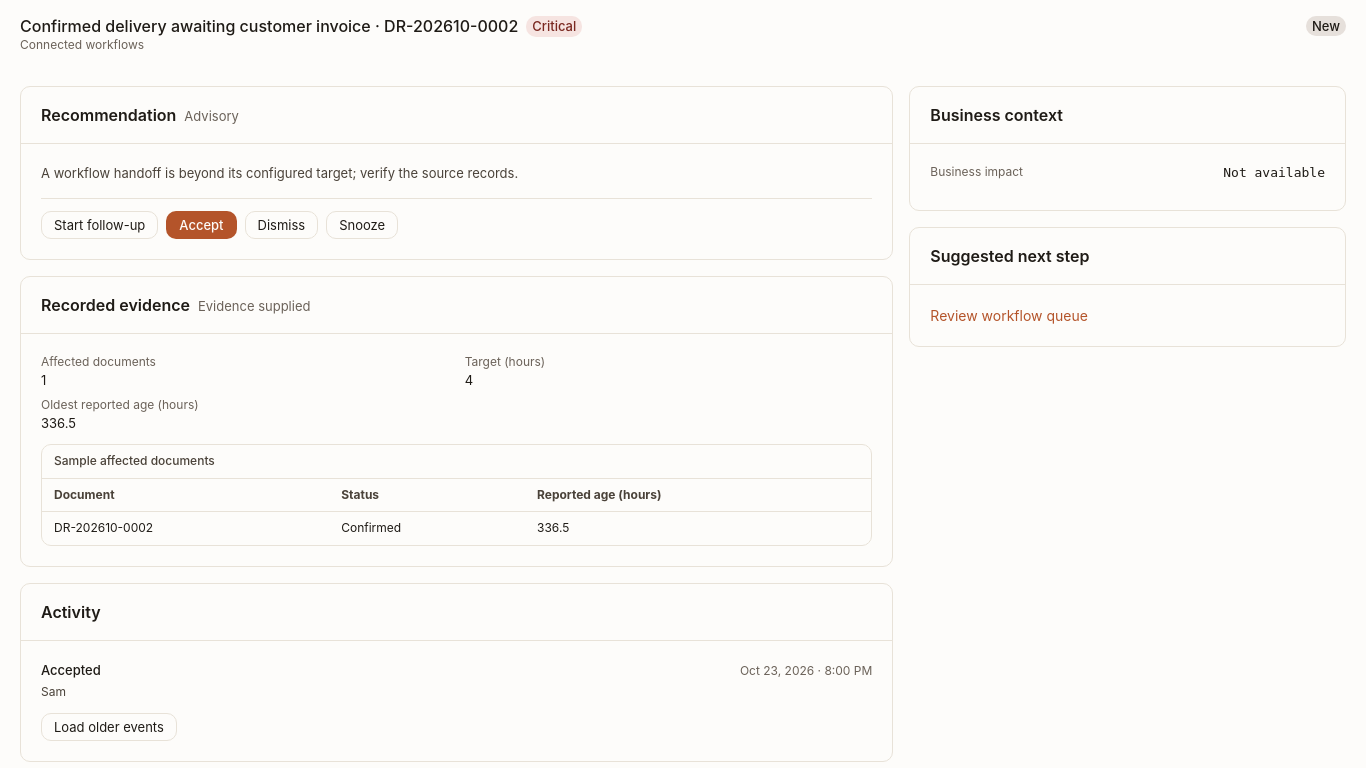
Test: RecommendationDetails › loads older activity with cursor and shows curated event details
expect the text "Accepted" is shown: met, box [41,661,101,679]
expect the text "Sam" is shown: met, box [41,684,66,699]
Click the button "Load older events" at (109, 727), box [41,713,177,741]
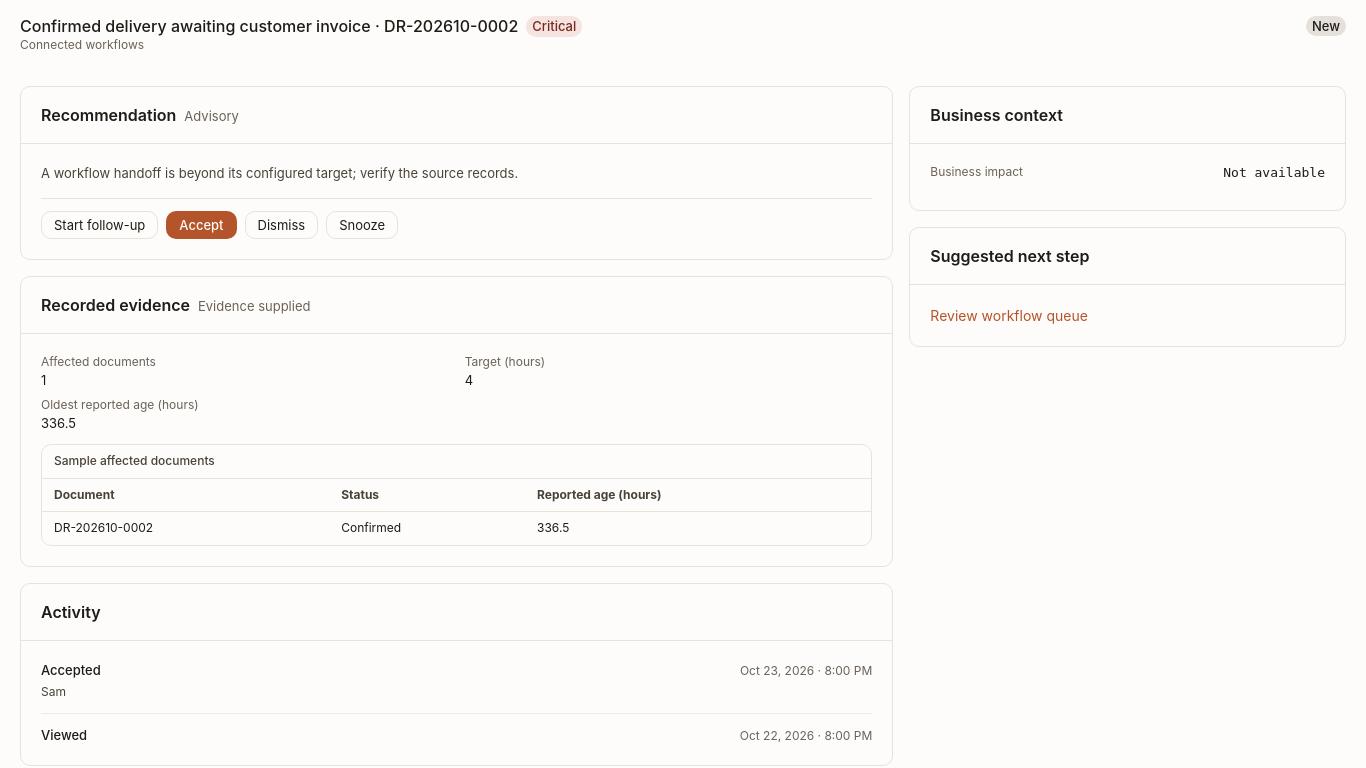
expect the text "Viewed" is shown: met, box [41,726,87,744]
